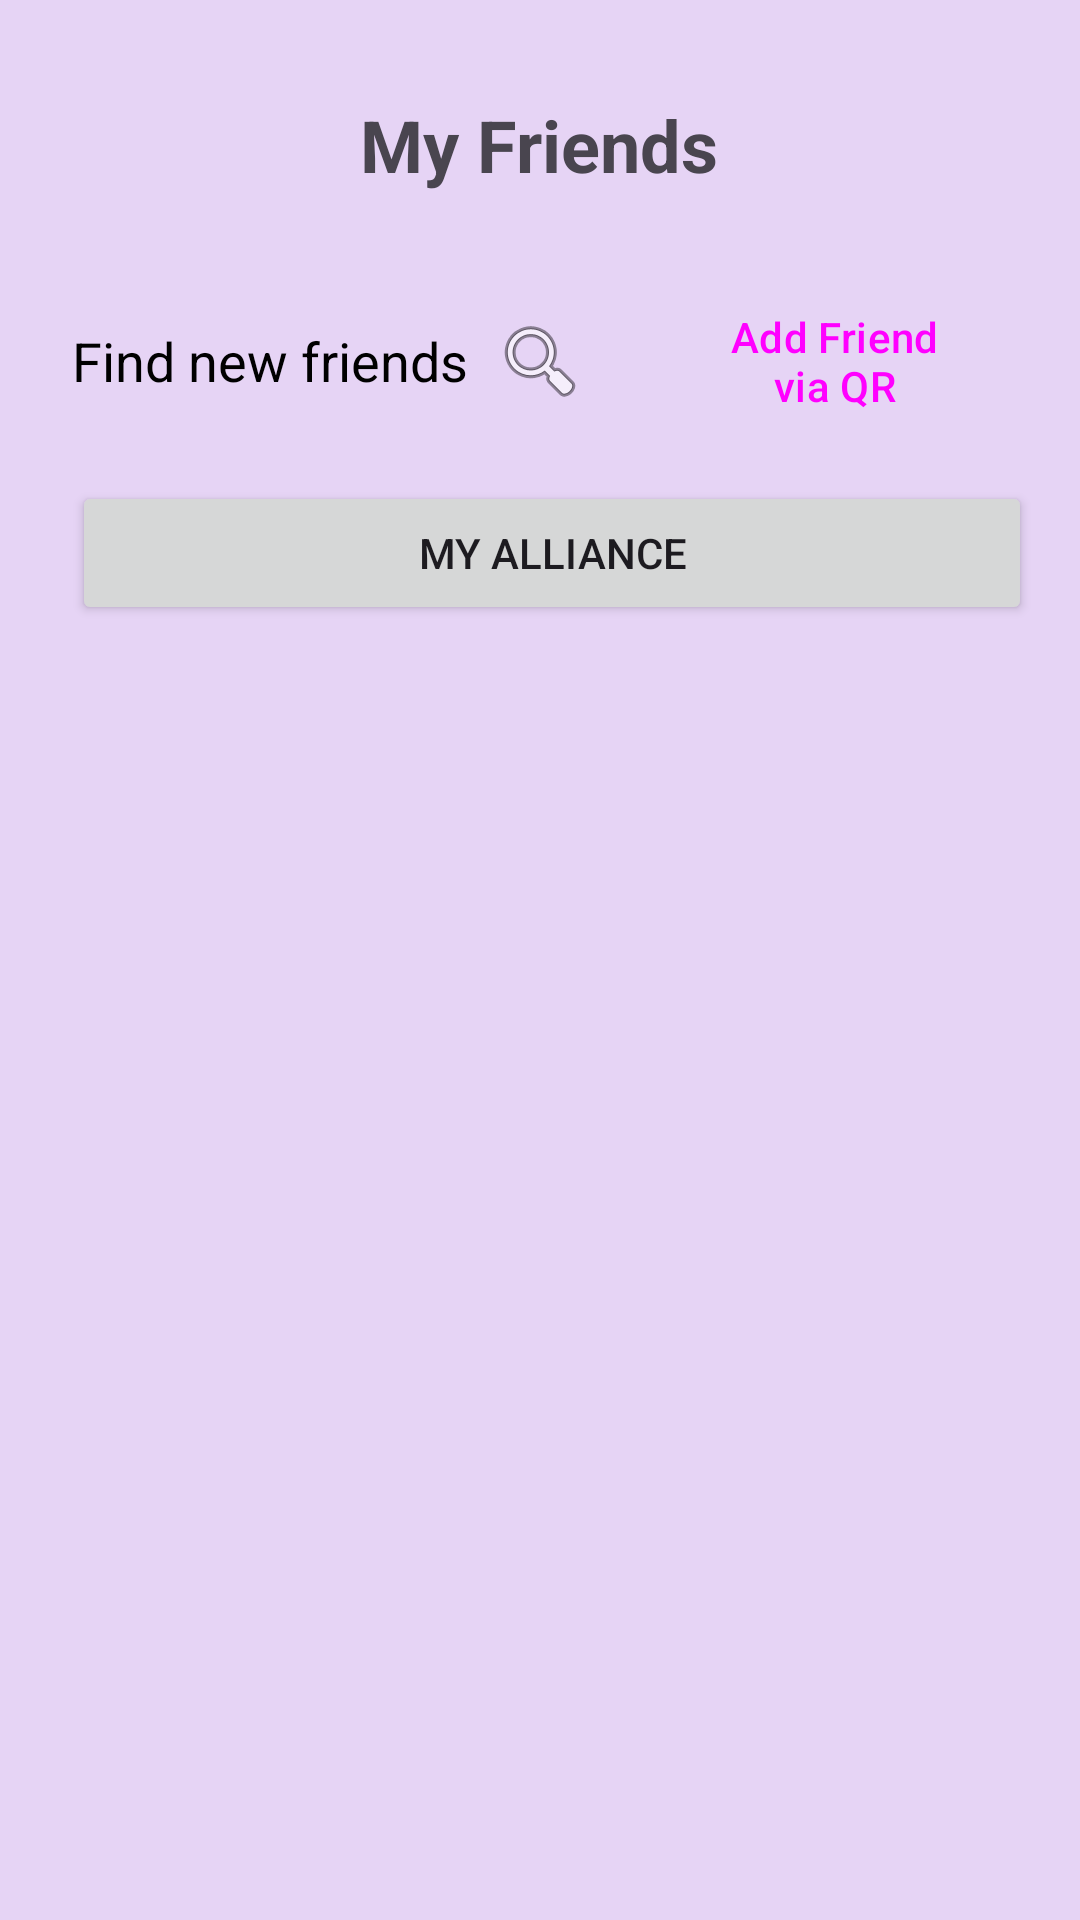

Icons on this 1080px×1920px Android screen, each with the point to tap as point (x, y):
Search: point (540, 361)
